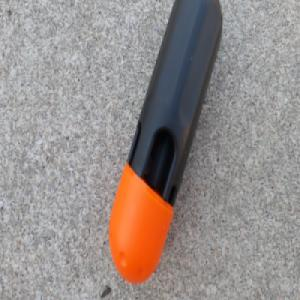PlasticPart: (107, 0, 223, 286)
